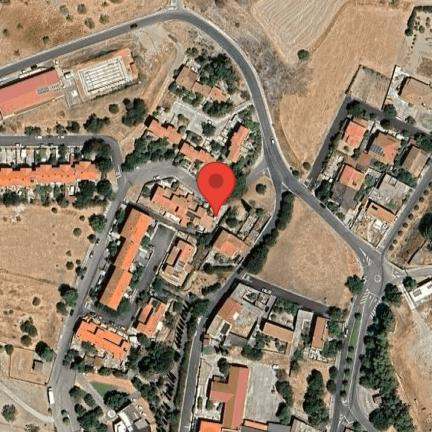area_open: (272, 205, 367, 314), (172, 100, 238, 146), (134, 228, 166, 274), (245, 173, 276, 210)
built: (197, 361, 323, 432), (98, 209, 152, 312), (207, 281, 279, 349), (139, 178, 224, 235), (71, 45, 143, 104), (0, 66, 65, 123), (262, 308, 314, 366), (210, 214, 269, 264), (156, 231, 205, 290), (74, 315, 133, 363), (365, 173, 413, 231), (0, 161, 100, 187), (176, 64, 230, 110), (133, 294, 181, 344), (334, 119, 373, 159), (368, 125, 402, 166), (397, 139, 431, 178), (398, 73, 431, 111), (177, 141, 218, 170), (309, 312, 331, 362), (332, 164, 366, 193), (149, 116, 179, 146), (227, 127, 250, 164), (409, 278, 432, 306)
vegetation_high: (230, 307, 349, 431), (358, 283, 424, 432), (318, 319, 331, 351), (325, 320, 330, 325)
vegetation_low: (185, 0, 432, 185), (5, 26, 182, 170), (0, 178, 115, 382), (100, 301, 207, 432), (0, 0, 166, 68), (172, 14, 247, 106), (253, 186, 301, 285), (73, 372, 136, 432), (402, 296, 430, 430), (390, 182, 431, 271), (317, 186, 377, 245), (219, 125, 258, 208)
